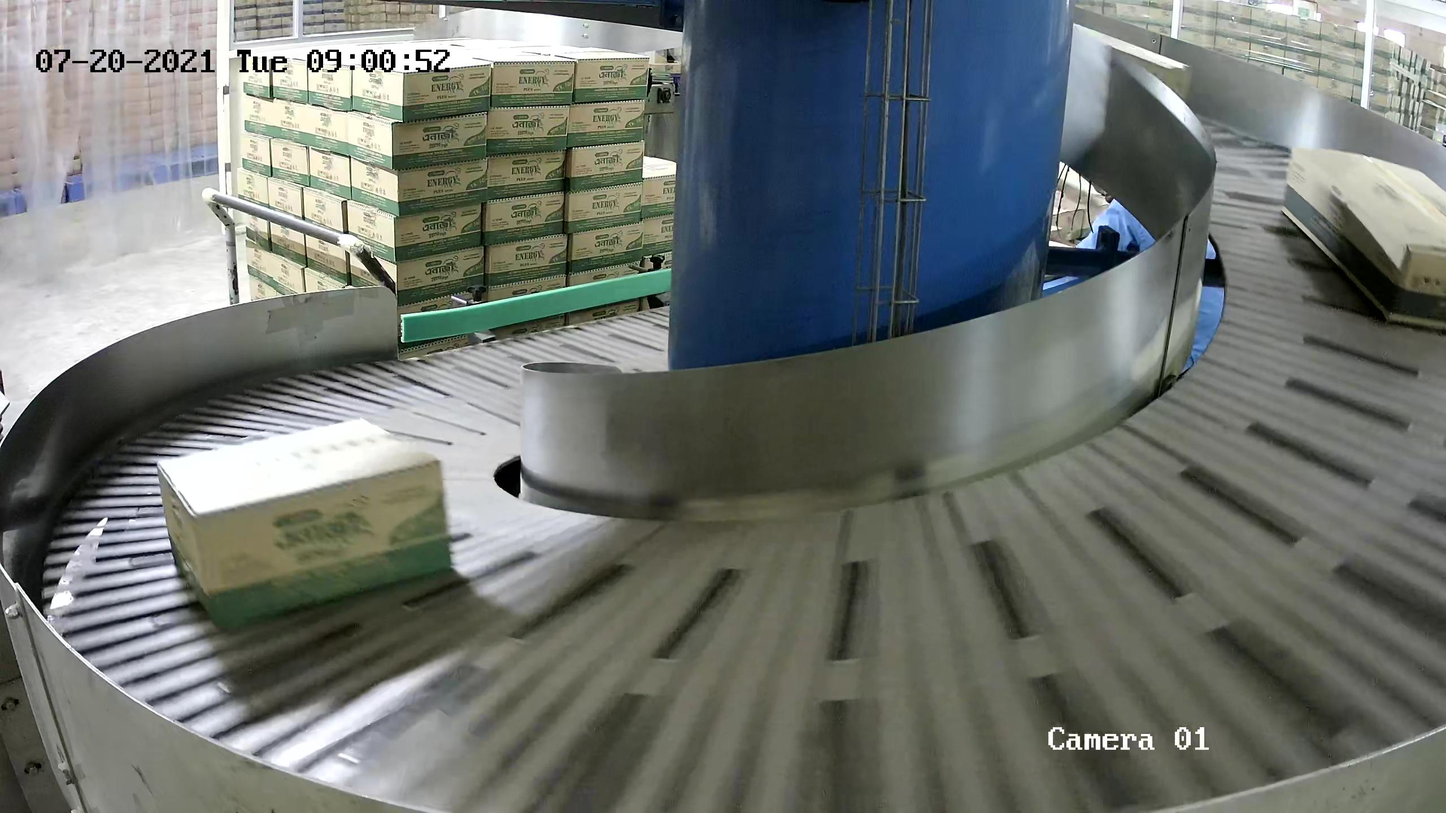Box: (156, 416, 453, 632), (1280, 144, 1446, 336)
